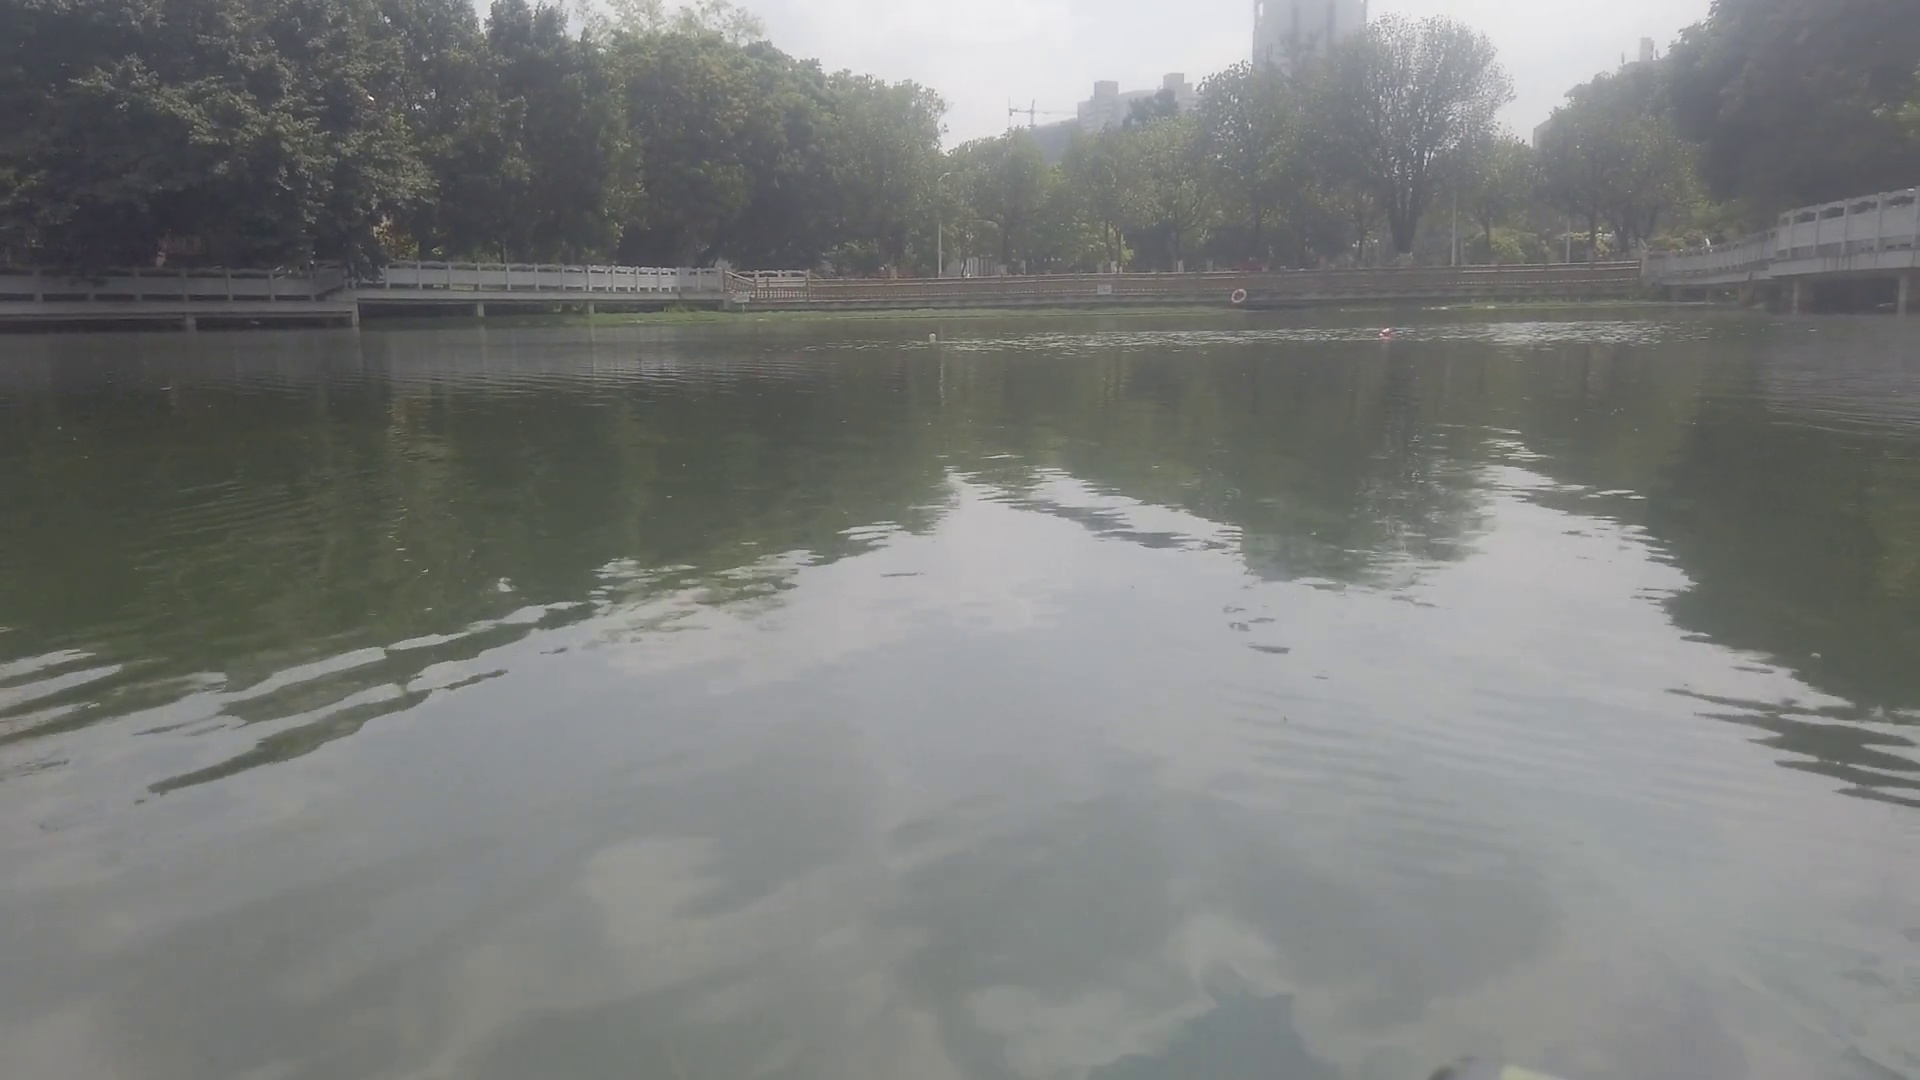bottle: (1373, 324, 1395, 339), (926, 330, 940, 344)
